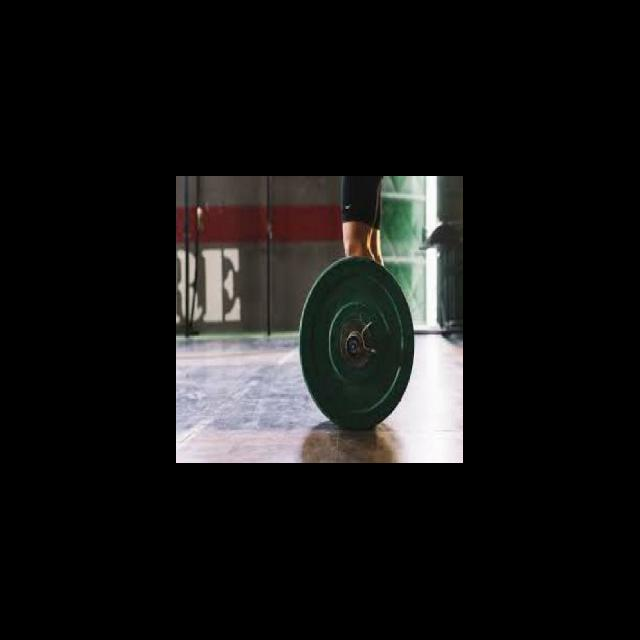barbell: (296, 252, 419, 432)
